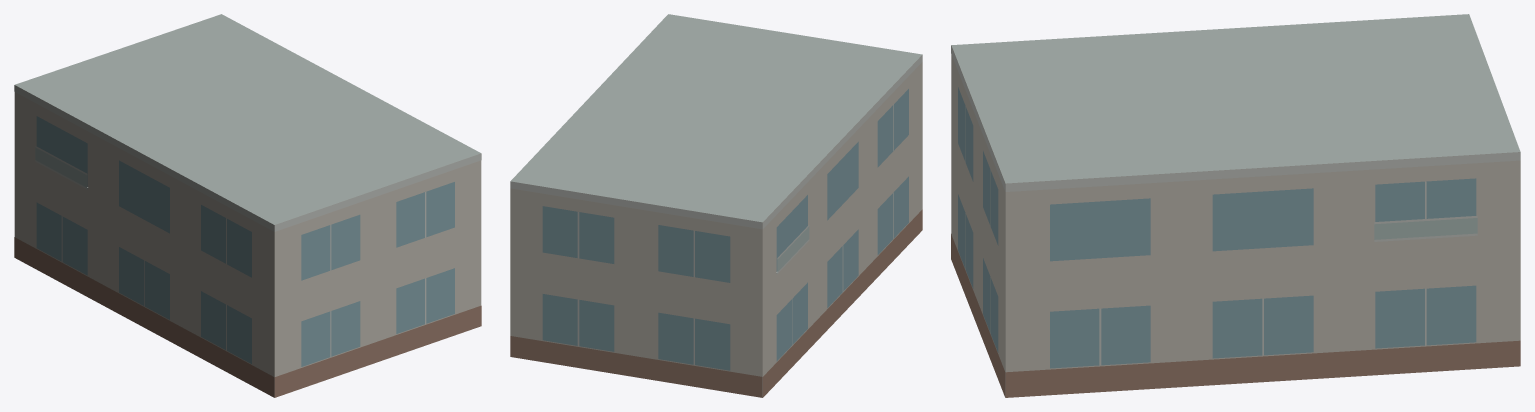
Rendered from survey-upis-32700467.glb.
3 renders of one model, left to right at view 1: azimuth 30°, elevation 25°; view 2: azimuth 150°, elevation 25°; view 3: azimuth 270°, elevation 25°, orthographic. The views are drawn at different scales.
Visible parts, largest first — view 1: survey-upis-32700467.tmp; view 2: survey-upis-32700467.tmp; view 3: survey-upis-32700467.tmp.
Part boxes in pixels (x1=…): survey-upis-32700467.tmp: x1=14, y1=14, x2=481, y2=397; survey-upis-32700467.tmp: x1=510, y1=14, x2=922, y2=397; survey-upis-32700467.tmp: x1=951, y1=14, x2=1520, y2=397.
Bounding box in the file's own units: 10.36 × 6.1 × 14.7.
